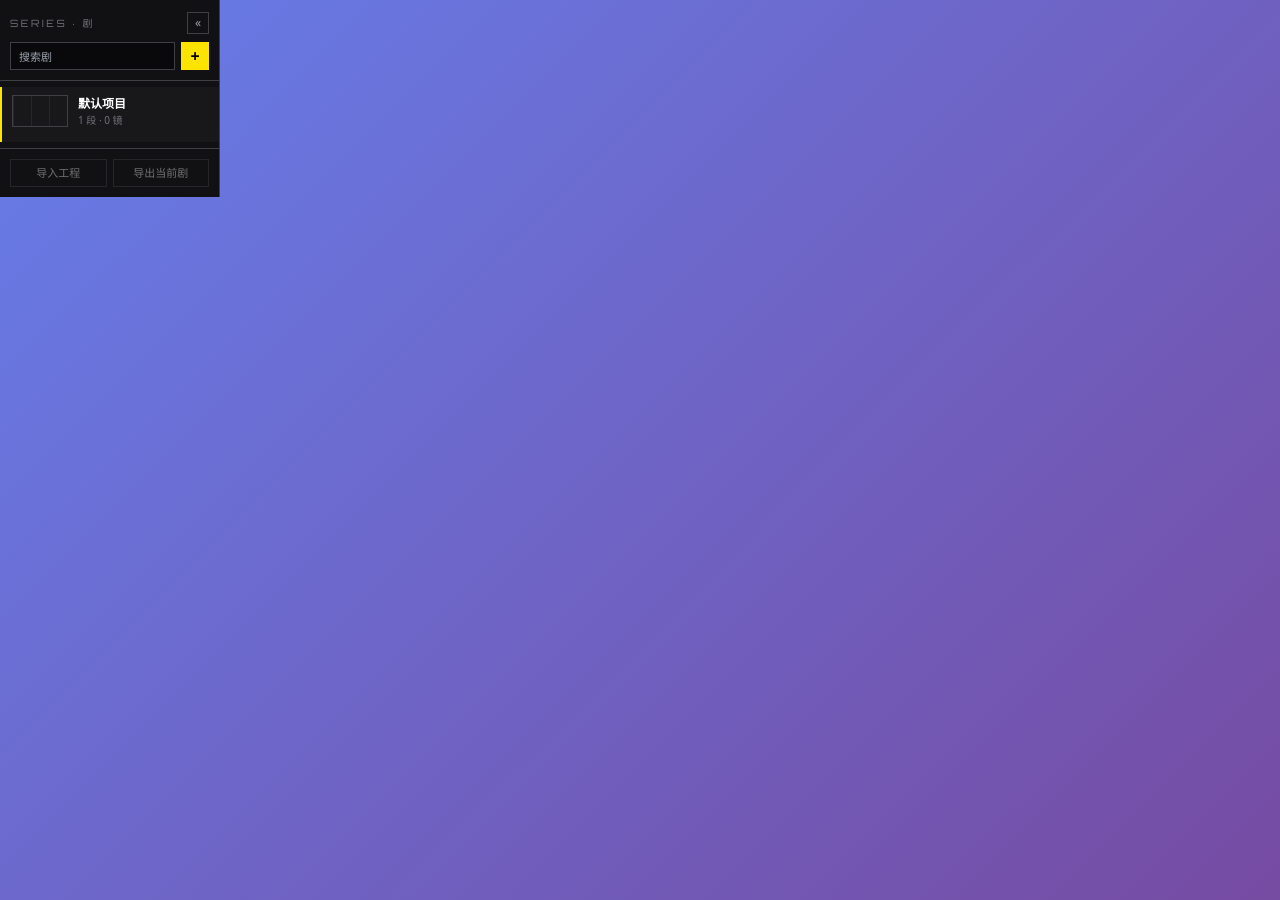
Test: ProjectRail › 折叠后只剩封面,按钮文案变「展开剧栏」,状态持久化
The width and height of the screenshot is (1280, 900).
Click the button named "折叠剧栏" at (198, 23), box x1=187 y1=12 x2=209 y2=34
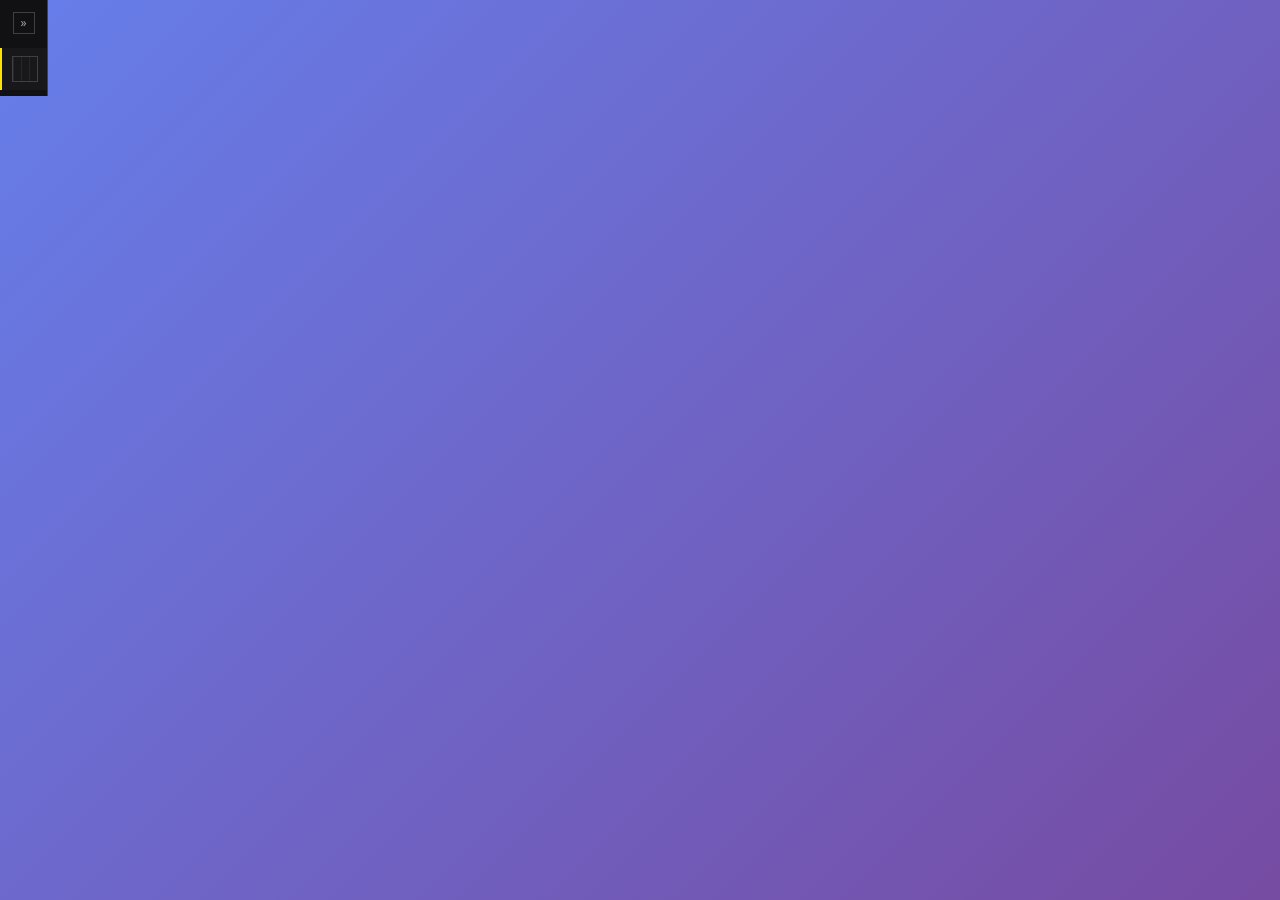
Result: the button named "展开剧栏" is shown at x1=12 y1=12 x2=34 y2=34
Result: the text "默认项目" is gone
